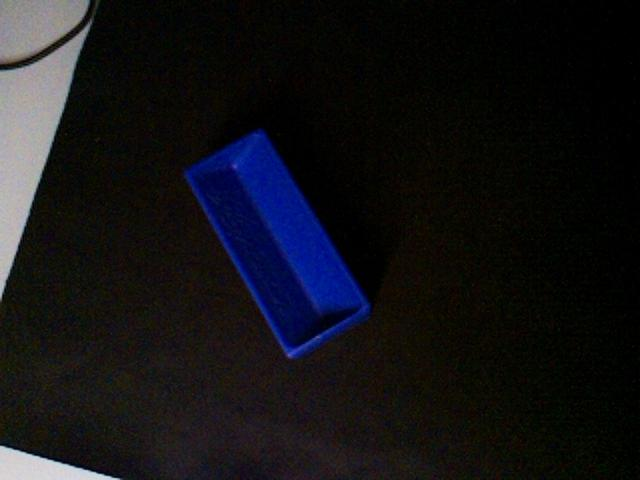blue: (182, 126, 373, 361)
